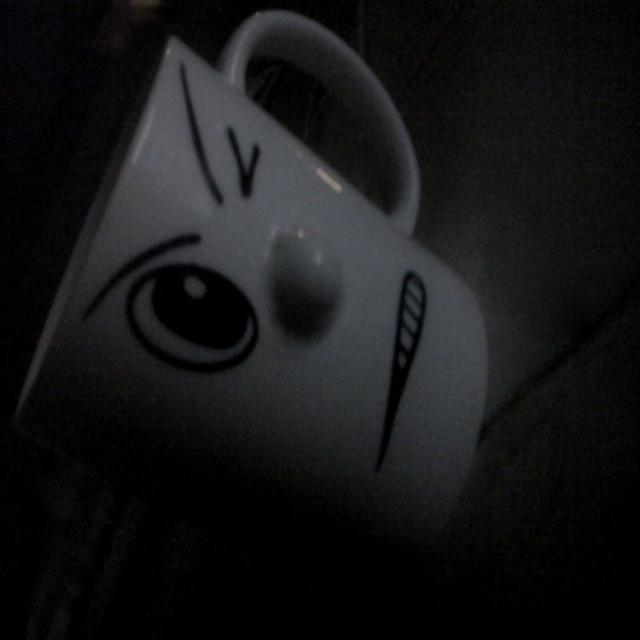Cup: (10, 18, 513, 567)
